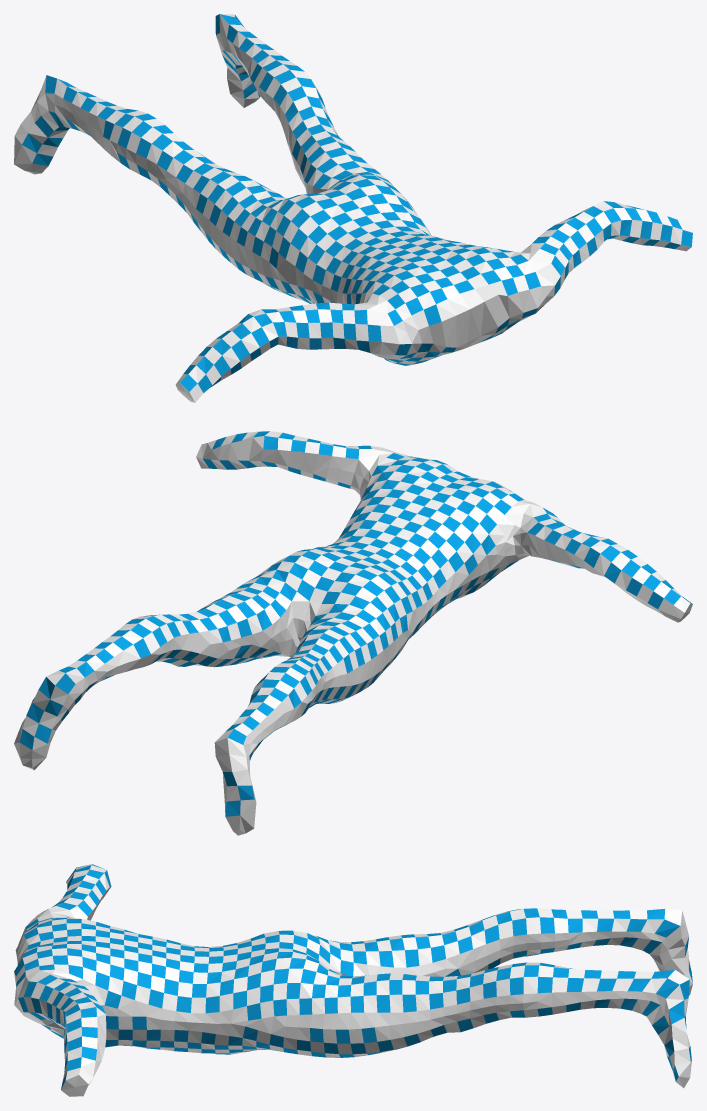
The model's file is Complete_QuadOnly.obj.
3 views of the same model, one above another, from view 1: azimuth 30°, elevation 25°; view 2: azimuth 150°, elevation 25°; view 3: azimuth 270°, elevation 25° (orthographic). The views are drawn at different scales.
Size of the model in its own units: 1251 by 298 by 1482.
